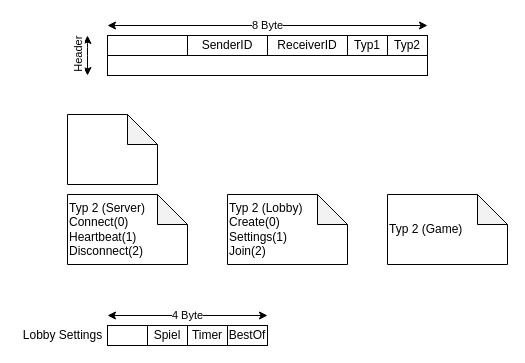
This 525x363 diagram has some shape labels left out. Each missing label, with the box of its shape:
IsPubl: (106, 324, 148, 346)
Length: (106, 34, 188, 56)
Timestamp: (106, 54, 428, 76)
Typ 1: Server(0) Lobby(1) Game(2): (66, 114, 158, 184)
